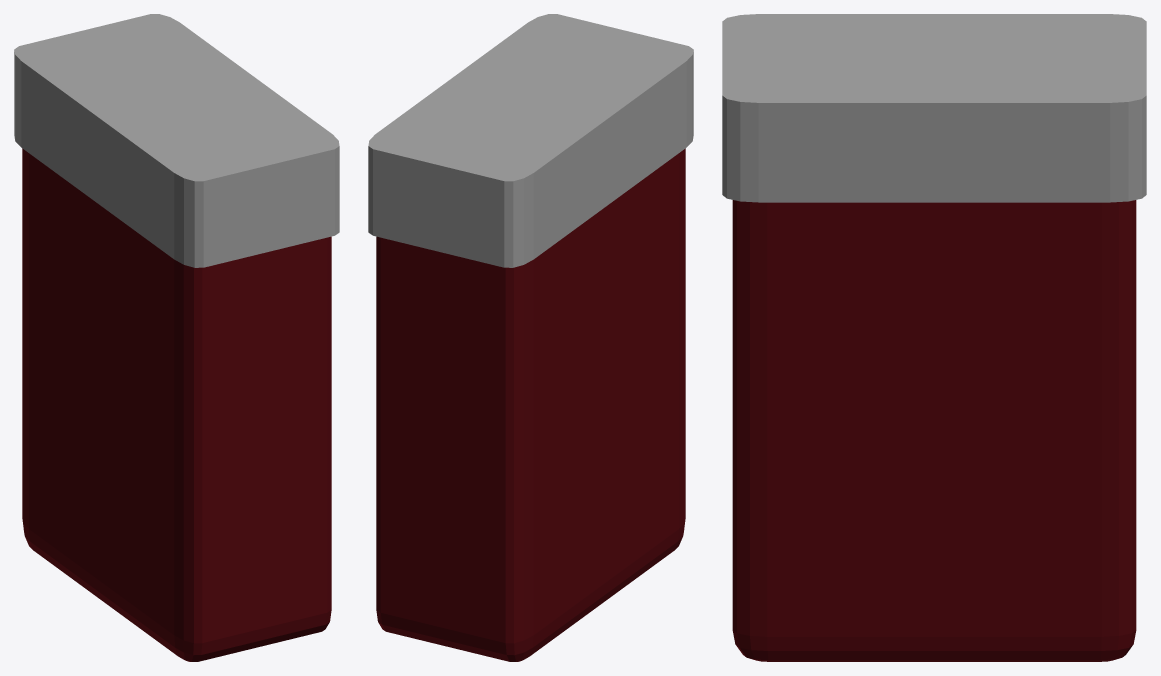
Rendered from tooper.obj.
3 views of the same model, side by side, from view 1: azimuth 30°, elevation 25°; view 2: azimuth 150°, elevation 25°; view 3: azimuth 270°, elevation 25° (orthographic). The views are drawn at different scales.
Visible parts, largest first — view 1: Plane.004_Plane.005; view 2: Plane.004_Plane.005; view 3: Plane.004_Plane.005.
Boxes of the visible parts, x1,y1,x2,y2 form: Plane.004_Plane.005: (14,14,339,661); Plane.004_Plane.005: (368,14,693,661); Plane.004_Plane.005: (722,14,1146,661).
Bounding box in the file's own units: 0.2027 × 0.6009 × 0.4089.
